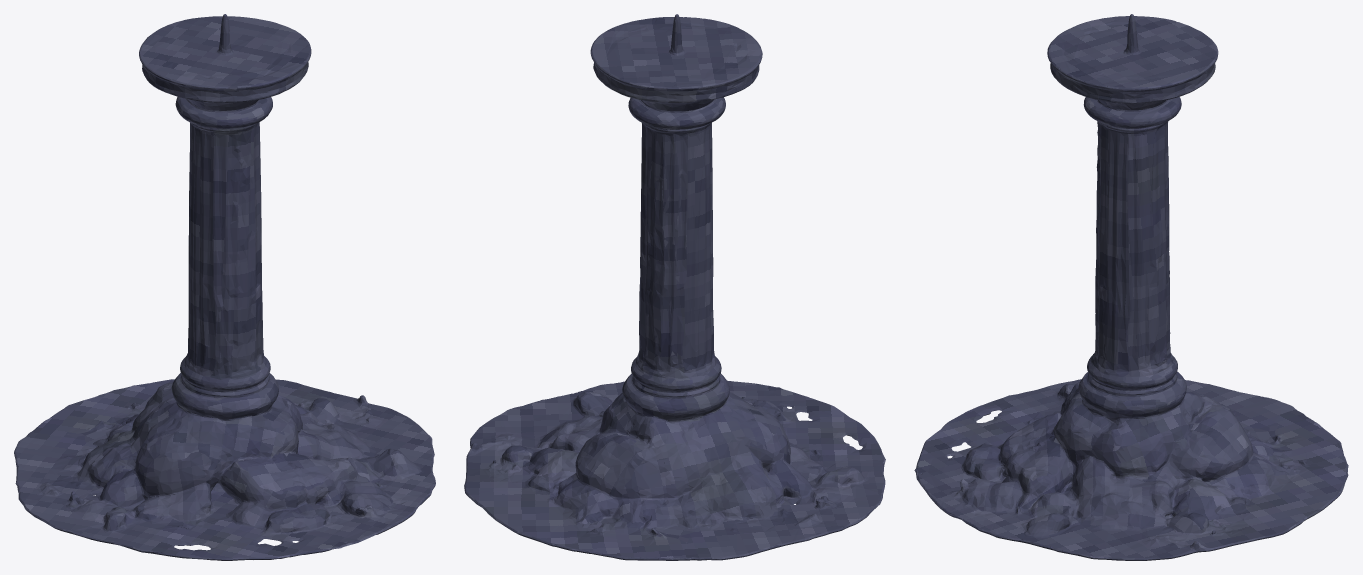
The model's file is weathered-monolith-pillar-generated-2026-04-19T23-33-28-476Z.medium.glb.
The picture shows the model from 3 angles, left to right: view 1: azimuth 30°, elevation 25°; view 2: azimuth 150°, elevation 25°; view 3: azimuth 270°, elevation 25°; orthographic projection.
Visible parts, largest first — view 1: temp_mesh.ply; view 2: temp_mesh.ply; view 3: temp_mesh.ply.
Part boxes in pixels (<box>): temp_mesh.ply: <box>14,14,435,560</box>; temp_mesh.ply: <box>464,14,885,560</box>; temp_mesh.ply: <box>914,14,1348,560</box>.
Size of the model in its own units: 1.73 by 1.97 by 1.71.
1 material, 1 textured.
